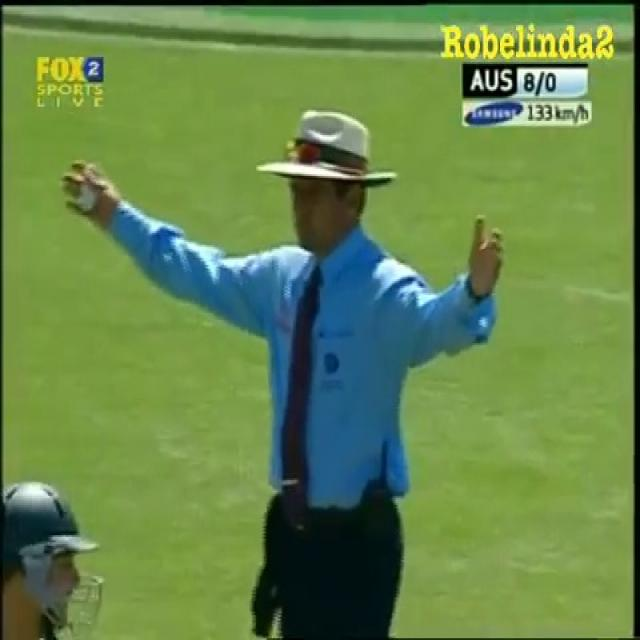Wide: (58, 103, 510, 640)
